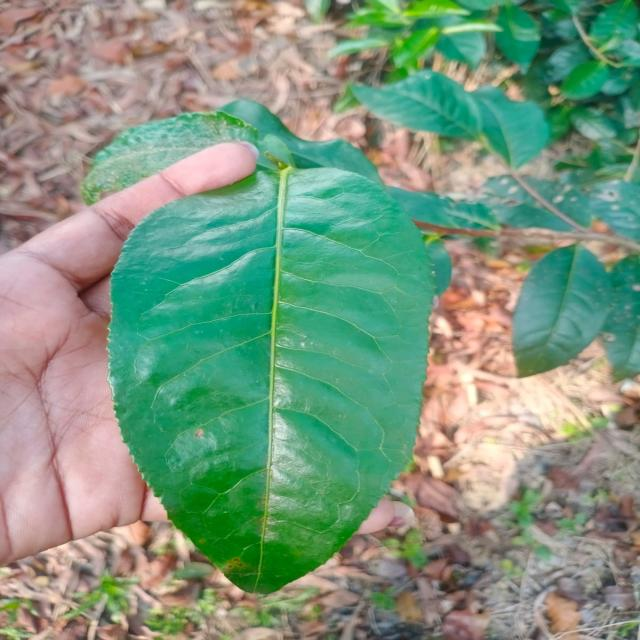Category D(7+ days, Not for Tea): (85, 149, 439, 602)
